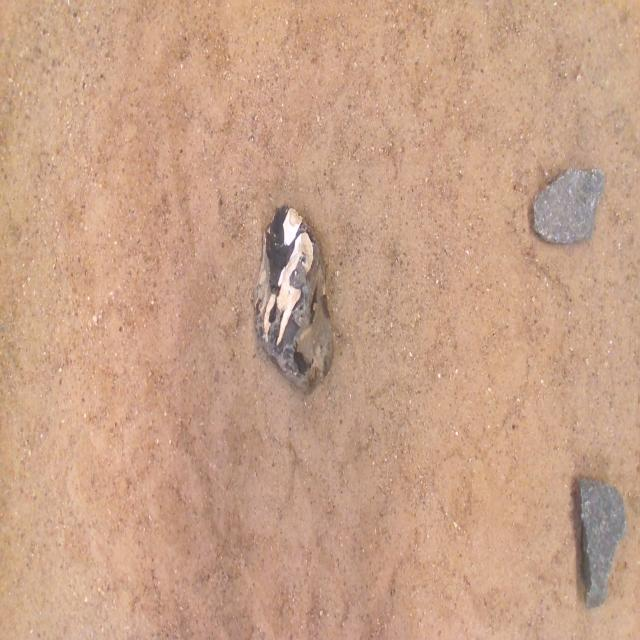rock: (255, 206, 333, 389), (576, 478, 626, 609), (533, 169, 604, 243)
